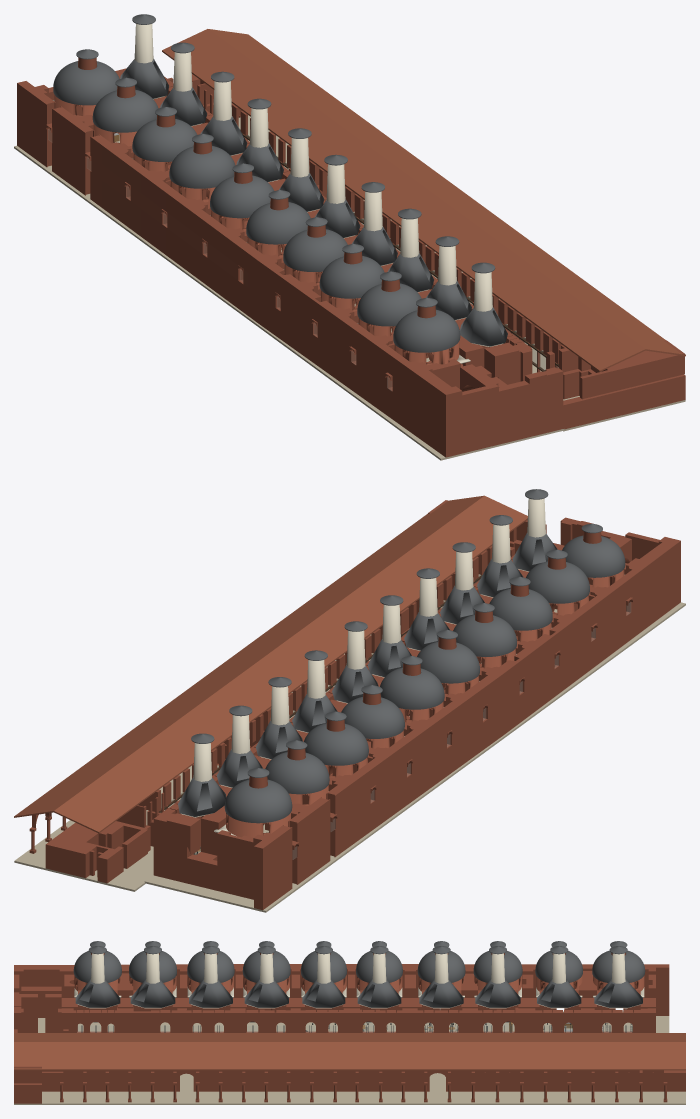
Rendered from topkapi.glb.
3 renders of one model, top to bottom at view 1: azimuth 30°, elevation 25°; view 2: azimuth 150°, elevation 25°; view 3: azimuth 270°, elevation 25°, orthographic. The views are drawn at different scales.
Parts seen in each view (by area): view 1: 01_TAS_DUVARLAR, 02_KURSUN_KAPLAMA_VE_SAPKALAR, 01_EGIMLI_TERRACOTTA_CATI, 02_UST_KAT_DUVARLARI, 01_EK_YAPI_DUVARLARI, 03_DAVLUMBAZ_BACA_SIVA, 05_KUBBE_KASNAKLARI, 01_F01_ORTAK_PORSELEN_ZEMIN, 03_TUGLA_KEMERLER, 01_KUBBE_IC_KABUK, 02_TAS_AYAKLAR; view 2: 01_TAS_DUVARLAR, 02_KURSUN_KAPLAMA_VE_SAPKALAR, 01_EGIMLI_TERRACOTTA_CATI, 03_DAVLUMBAZ_BACA_SIVA, 01_EK_YAPI_DUVARLARI, 01_F01_ORTAK_PORSELEN_ZEMIN, 02_UST_KAT_DUVARLARI, 05_KUBBE_KASNAKLARI, 03_TUGLA_KEMERLER, 01_KUBBE_IC_KABUK, 02_TAS_AYAKLAR; view 3: 01_EGIMLI_TERRACOTTA_CATI, 02_KURSUN_KAPLAMA_VE_SAPKALAR, 01_TAS_DUVARLAR, 01_EK_YAPI_DUVARLARI, 01_F01_ORTAK_PORSELEN_ZEMIN, 03_REVAK_TAS_ELEMANLAR, 03_TUGLA_KEMERLER, 03_DAVLUMBAZ_BACA_SIVA, 05_KUBBE_KASNAKLARI, 02_PENCERE_CAMLARI, 02_UST_KAT_DUVARLARI, 06_KASNAK_DUVAR_KOSE_TAMAMLAMALARI (+2 smaller).
Boxes of the visible parts, box(x1,y1,x2,y2) form: 01_TAS_DUVARLAR: box(17, 81, 563, 457); 02_KURSUN_KAPLAMA_VE_SAPKALAR: box(53, 14, 507, 352); 01_EGIMLI_TERRACOTTA_CATI: box(162, 29, 685, 371); 02_UST_KAT_DUVARLARI: box(197, 83, 684, 399); 01_EK_YAPI_DUVARLARI: box(164, 74, 685, 429); 03_DAVLUMBAZ_BACA_SIVA: box(134, 23, 503, 346); 05_KUBBE_KASNAKLARI: box(54, 95, 459, 365); 01_F01_ORTAK_PORSELEN_ZEMIN: box(14, 135, 685, 460); 03_TUGLA_KEMERLER: box(79, 68, 519, 391); 01_KUBBE_IC_KABUK: box(78, 57, 435, 318); 02_TAS_AYAKLAR: box(115, 133, 529, 444); 01_TAS_DUVARLAR: box(153, 517, 680, 910); 02_KURSUN_KAPLAMA_VE_SAPKALAR: box(178, 489, 625, 823); 01_EGIMLI_TERRACOTTA_CATI: box(14, 495, 527, 833); 03_DAVLUMBAZ_BACA_SIVA: box(181, 498, 545, 817); 01_EK_YAPI_DUVARLARI: box(31, 527, 680, 883); 01_F01_ORTAK_PORSELEN_ZEMIN: box(14, 602, 685, 912); 02_UST_KAT_DUVARLARI: box(116, 500, 546, 827); 05_KUBBE_KASNAKLARI: box(226, 569, 624, 837); 03_TUGLA_KEMERLER: box(166, 536, 631, 855); 01_KUBBE_IC_KABUK: box(249, 531, 601, 788); 02_TAS_AYAKLAR: box(187, 584, 592, 890); 01_EGIMLI_TERRACOTTA_CATI: box(14, 1033, 685, 1070); 02_KURSUN_KAPLAMA_VE_SAPKALAR: box(73, 941, 645, 1007); 01_TAS_DUVARLAR: box(14, 964, 669, 1032); 01_EK_YAPI_DUVARLARI: box(14, 977, 685, 1103); 01_F01_ORTAK_PORSELEN_ZEMIN: box(14, 1011, 685, 1104); 03_REVAK_TAS_ELEMANLAR: box(60, 1070, 667, 1102); 03_TUGLA_KEMERLER: box(21, 971, 655, 1030); 03_DAVLUMBAZ_BACA_SIVA: box(77, 953, 641, 1008); 05_KUBBE_KASNAKLARI: box(74, 975, 644, 991); 02_PENCERE_CAMLARI: box(77, 1025, 631, 1032); 02_UST_KAT_DUVARLARI: box(14, 1029, 618, 1083); 06_KASNAK_DUVAR_KOSE_TAMAMLAMALARI: box(74, 986, 644, 997).
Bounding box in the file's own units: 34.8 × 18.25 × 108.
